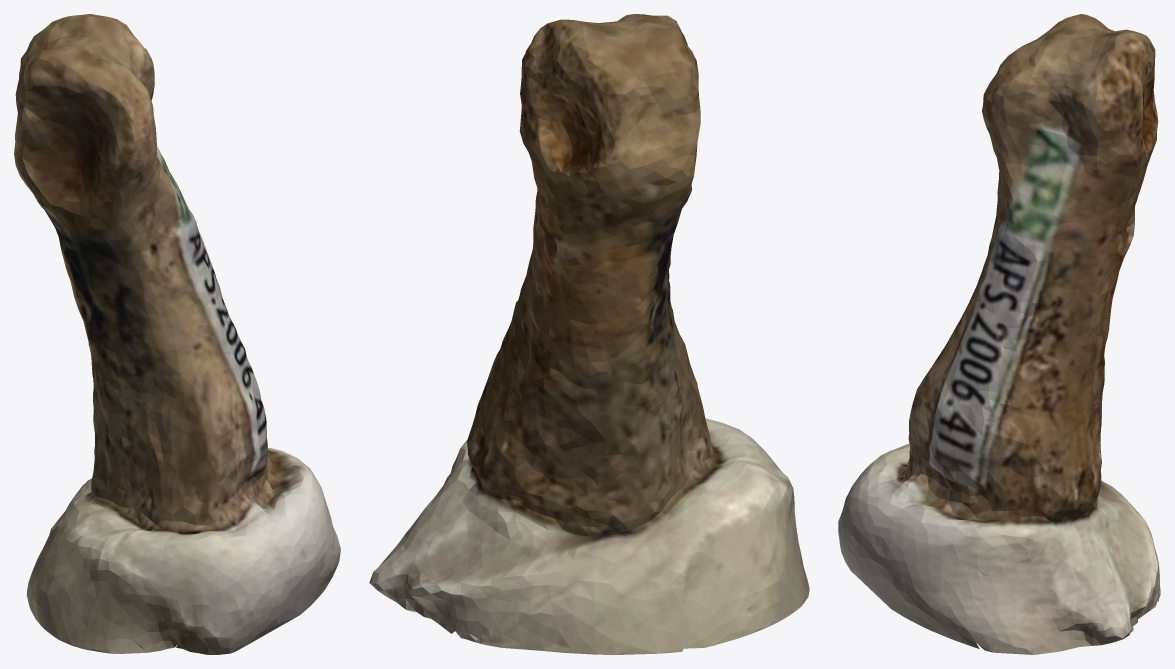
The model's file is APS.2006.41b.glb.
3 renders of one model, left to right at view 1: azimuth 30°, elevation 25°; view 2: azimuth 150°, elevation 25°; view 3: azimuth 270°, elevation 25°, orthographic. The views are drawn at different scales.
Bounding box in the file's own units: 0.018 × 0.0304 × 0.0169.
1 material, 1 textured.
